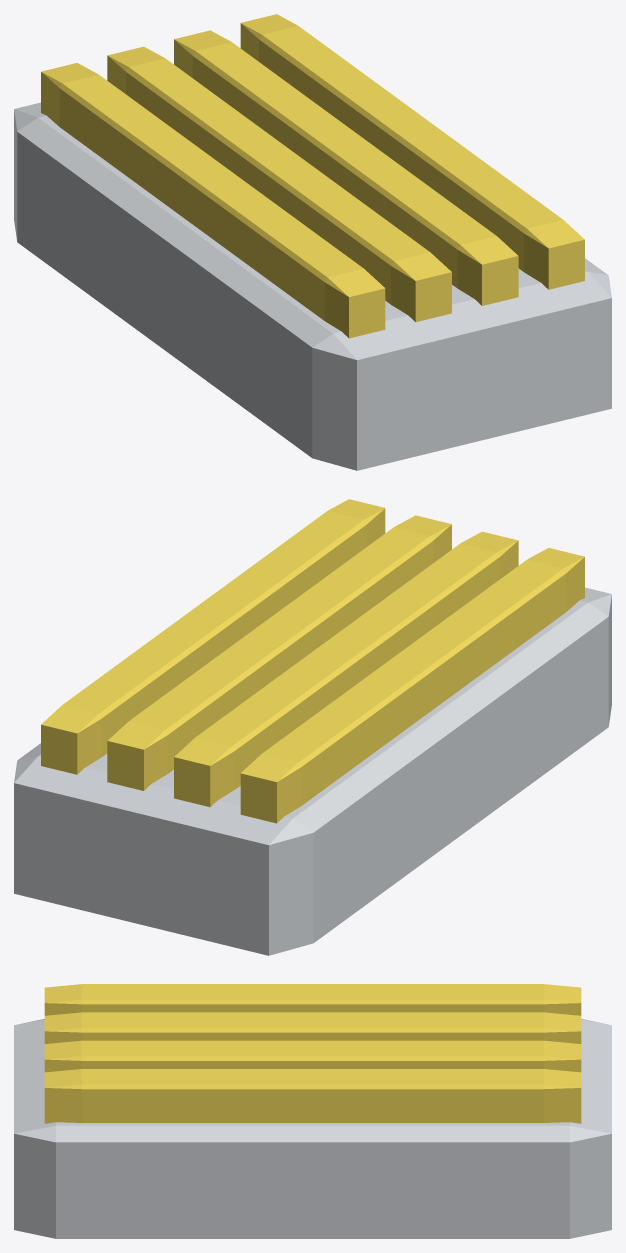
The model's file is b14_mobile_yard_loading_ramp.glb.
3 views of the same model, one above another, from view 1: azimuth 30°, elevation 25°; view 2: azimuth 150°, elevation 25°; view 3: azimuth 270°, elevation 25° (orthographic). The views are drawn at different scales.
Parts seen in each view (by area): view 1: b14_mobile_yard_loading_ramp; view 2: b14_mobile_yard_loading_ramp; view 3: b14_mobile_yard_loading_ramp.
Boxes of the visible parts, x1,y1,x2,y2 form: b14_mobile_yard_loading_ramp: (14,14,611,470); b14_mobile_yard_loading_ramp: (14,499,611,955); b14_mobile_yard_loading_ramp: (14,984,611,1238).
Bounding box in the file's own units: 2.43 × 1.35 × 4.88.
